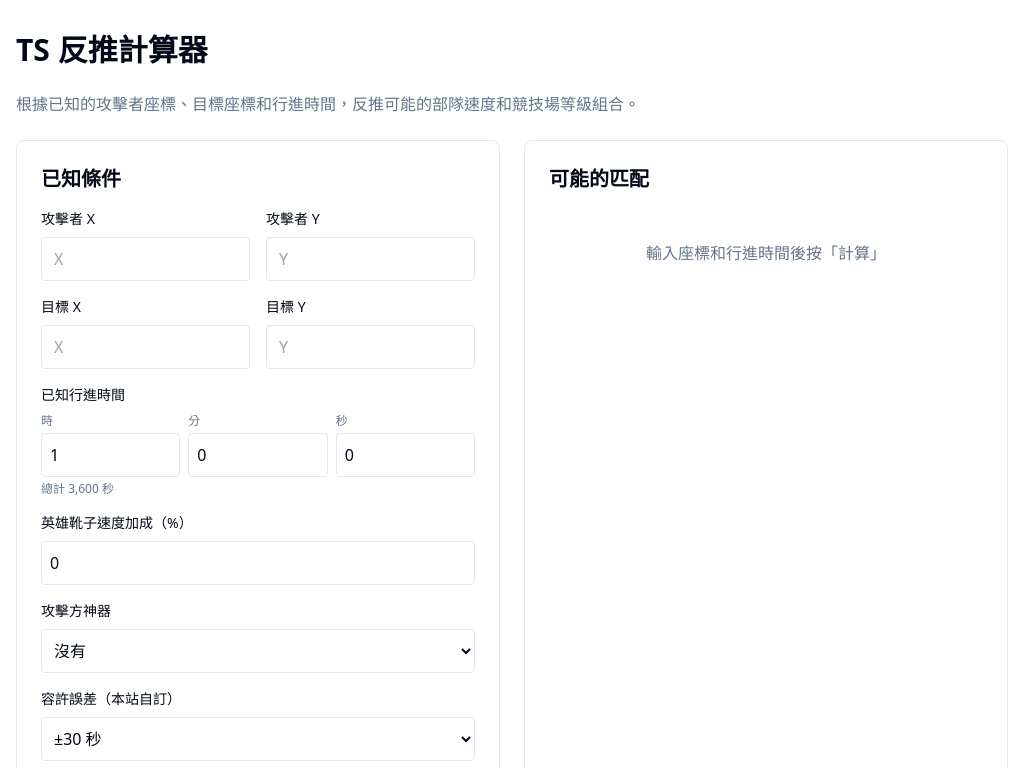
Test: PathSpeedTsCalculatorPage unverified-units-note (P0-15) › shows ONE line: grey 待驗證 chip + 有兵種速度待驗證，未列入反推
Type "0" into the field with test id "attacker-x". click: [146, 259]
box: x1=41 y1=237 x2=250 y2=281
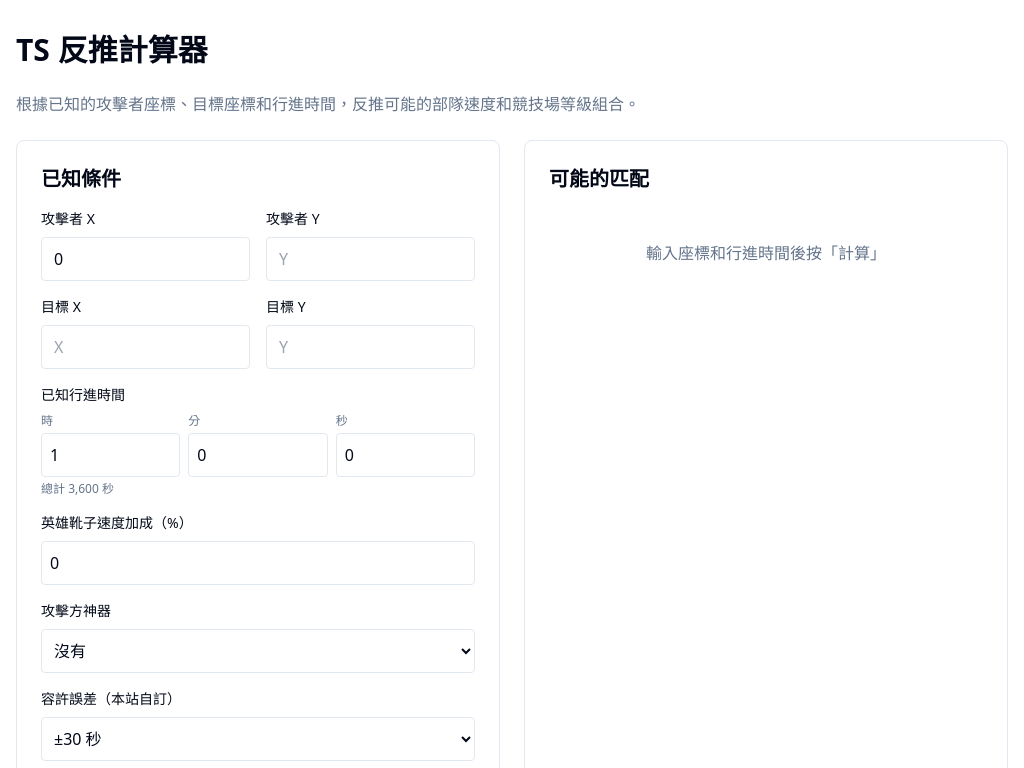
Type "0" into the field with test id "attacker-y". click: [370, 259]
box: x1=266 y1=237 x2=475 y2=281
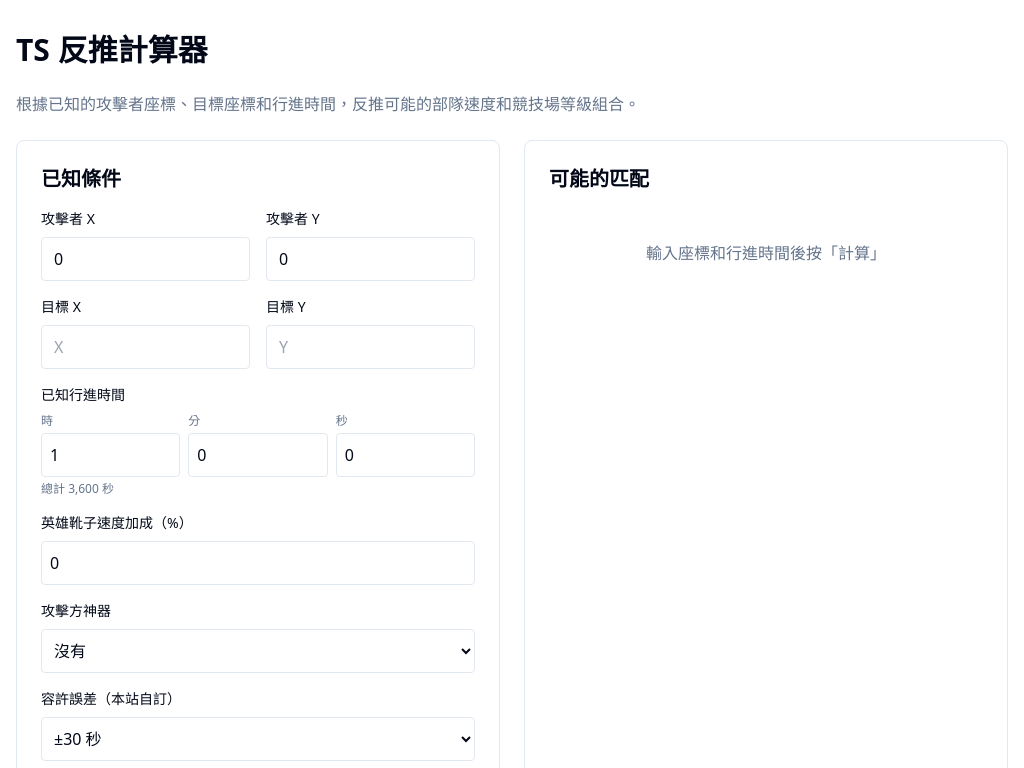
Type "3" into the field with test id "target-x". click: [146, 347]
box: x1=41 y1=325 x2=250 y2=369
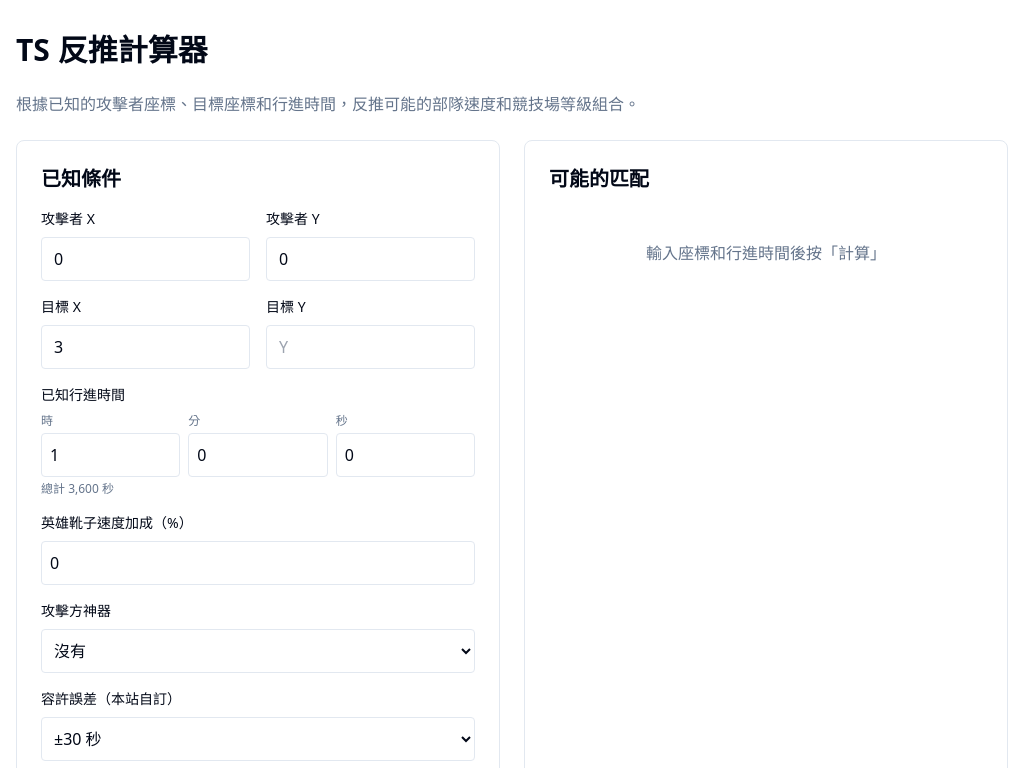
Type "-5" into the field with test id "target-y". click: [370, 347]
box: x1=266 y1=325 x2=475 y2=369
(page scrolled)
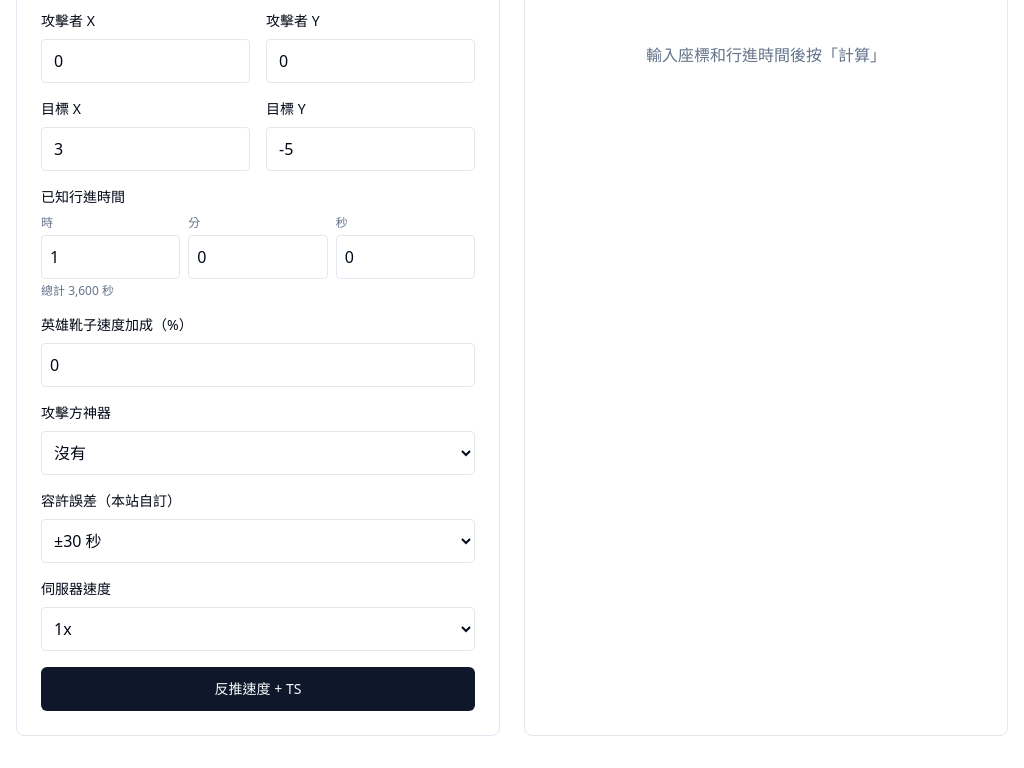
Click the button "反推速度 + TS". click: [258, 689]
box: x1=41 y1=667 x2=475 y2=711
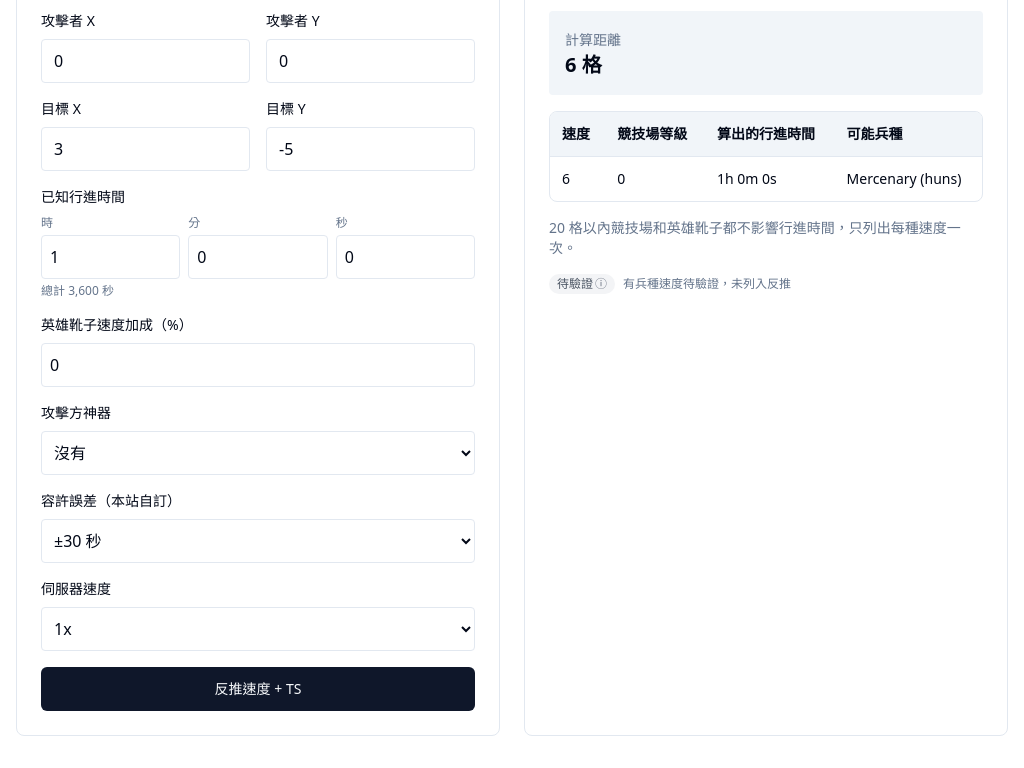
Expected: the number of elements with test id "unverified-units-note" is 1, x1=549 y1=274 x2=791 y2=294
Expected: the element with test id "unverified-units-note" shows "有兵種速度待驗證，未列入反推", x1=623 y1=275 x2=791 y2=292
Expected: the number of buttons with test id "pending-verify-chip" is 1, x1=549 y1=274 x2=615 y2=294
